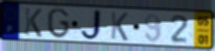2: (170, 14, 191, 45)
9: (143, 12, 164, 43)
G: (46, 8, 72, 40)
J: (79, 8, 104, 42)
K: (23, 6, 43, 38), (109, 10, 129, 42)
